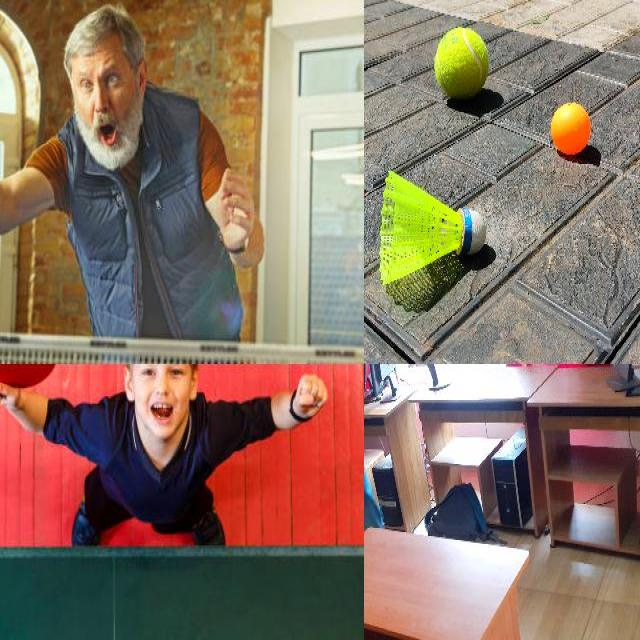ping-pong-ball: (551, 103, 589, 153)
